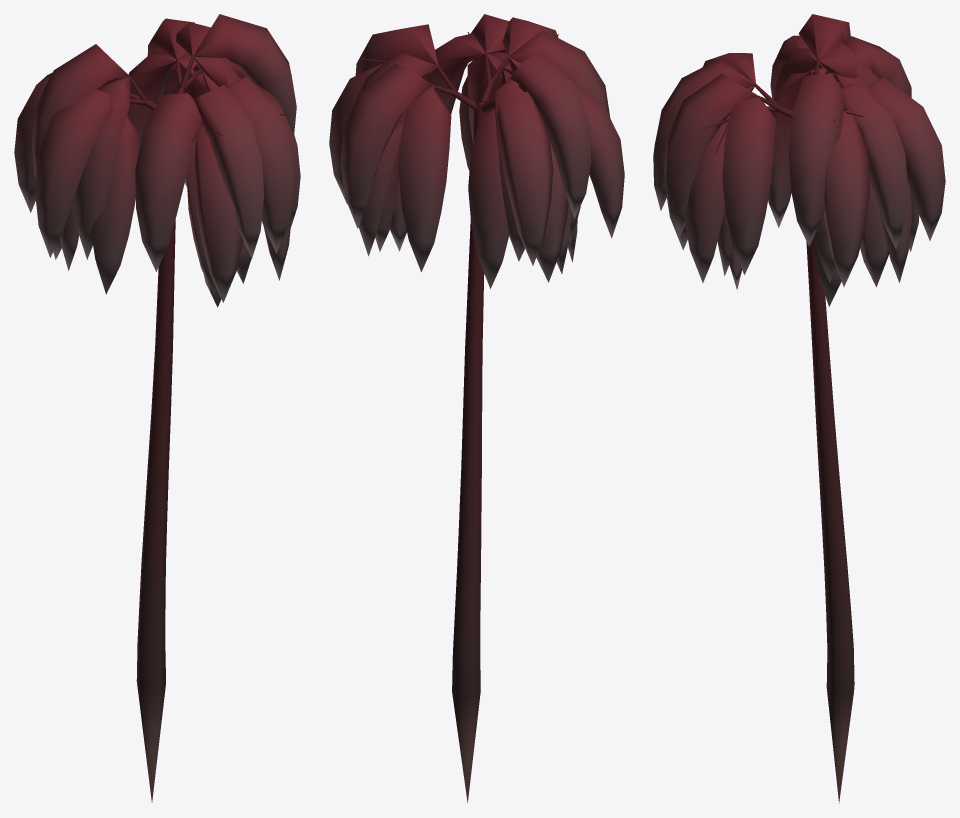
The model's file is plants-trees-palms-red-palm-tree_v3.glb.
3 renders of one model, left to right at view 1: azimuth 30°, elevation 25°; view 2: azimuth 150°, elevation 25°; view 3: azimuth 270°, elevation 25°, orthographic. The views are drawn at different scales.
Visible parts, largest first — view 1: Red Palm Tree_v3; view 2: Red Palm Tree_v3; view 3: Red Palm Tree_v3.
Part boxes in pixels (x1=…): Red Palm Tree_v3: x1=14, y1=14, x2=300, y2=802; Red Palm Tree_v3: x1=329, y1=14, x2=624, y2=802; Red Palm Tree_v3: x1=653, y1=14, x2=945, y2=803.
Bounding box in the file's own units: 1.8 × 5 × 1.74.
